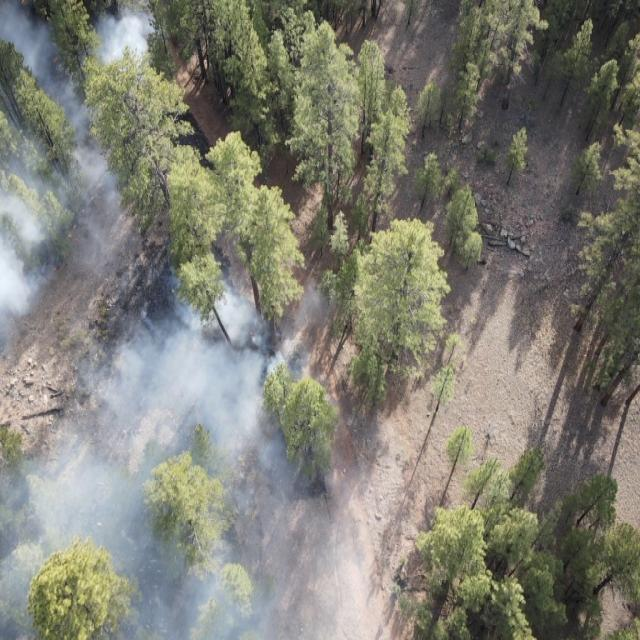smoke: (0, 0, 180, 640), (181, 277, 395, 640)
